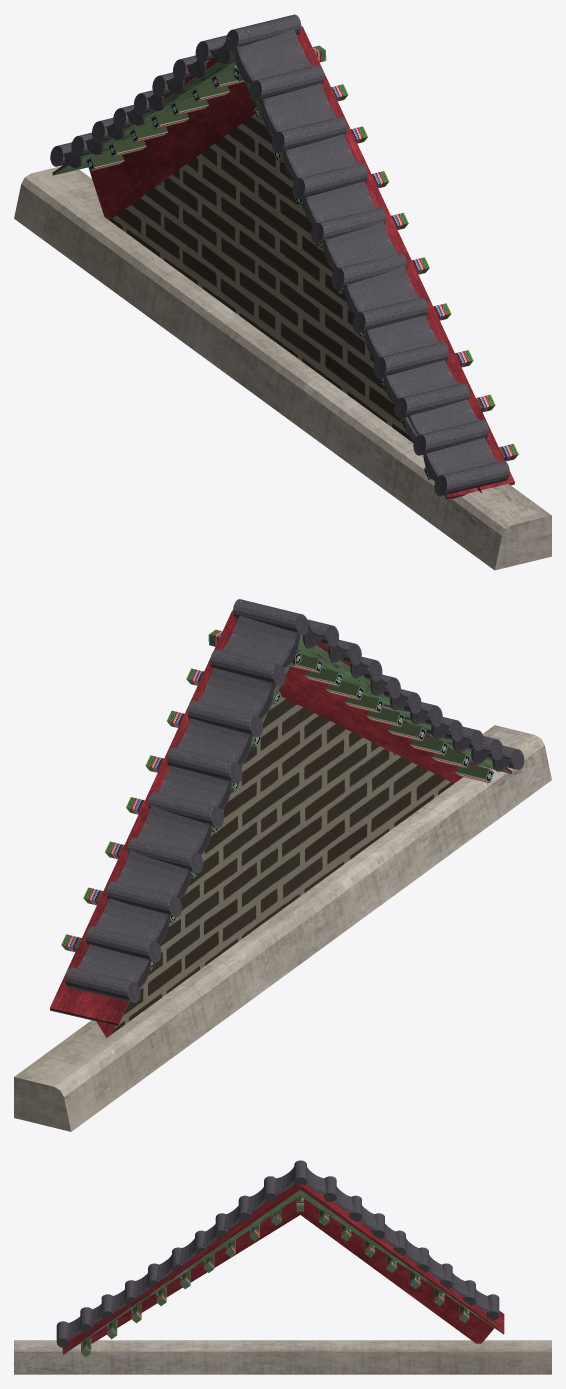
The model's file is SM_R_RoofOuter_10.fbx.
3 renders of one model, top to bottom at view 1: azimuth 30°, elevation 25°; view 2: azimuth 150°, elevation 25°; view 3: azimuth 270°, elevation 25°, orthographic. The views are drawn at different scales.
Visible parts, largest first — view 1: SM_R_RoofOuter_10; view 2: SM_R_RoofOuter_10; view 3: SM_R_RoofOuter_10.
Part boxes in pixels (x1,y1,x2,y2): SM_R_RoofOuter_10: [14, 14, 551, 570]; SM_R_RoofOuter_10: [14, 599, 551, 1131]; SM_R_RoofOuter_10: [14, 1160, 551, 1374].
Size of the model in its own units: 101 by 863 by 350.
4 materials, 4 textured.
